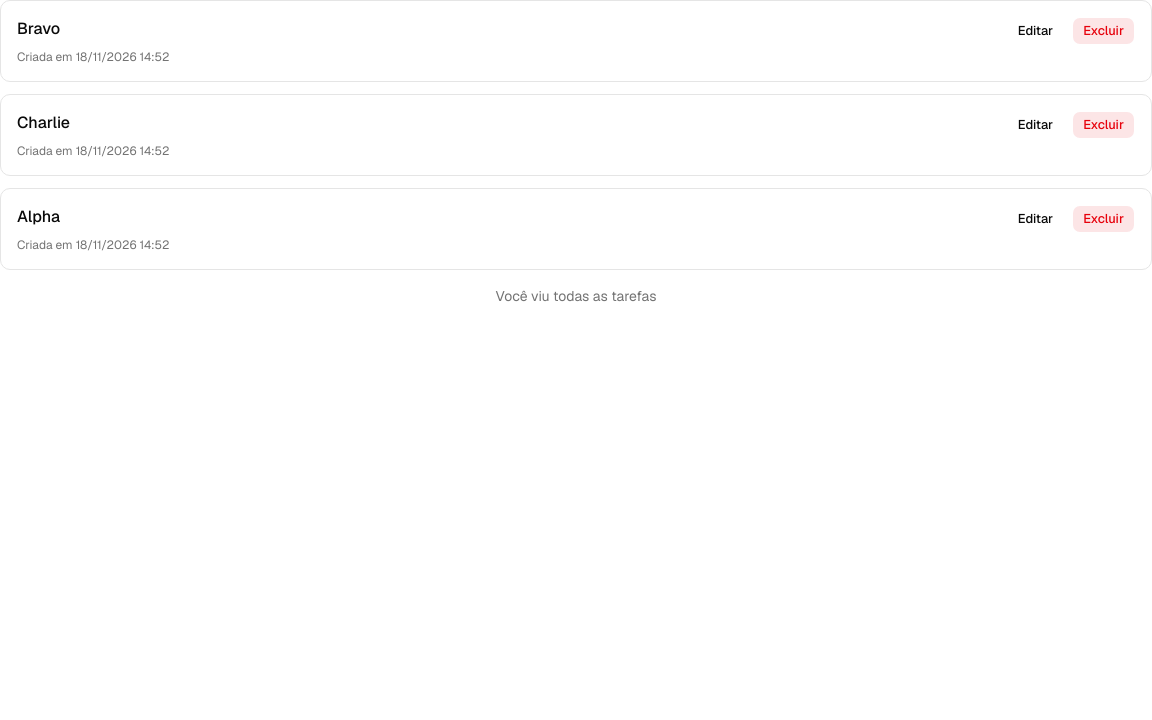
Test: memoização do TarefaItem (contagem de renders) › D: marcar um item como excluindo re-renderiza SÓ ele
Click the button with aria-label "Excluir Charlie".
click(1104, 125)  # box [1072,111,1135,139]
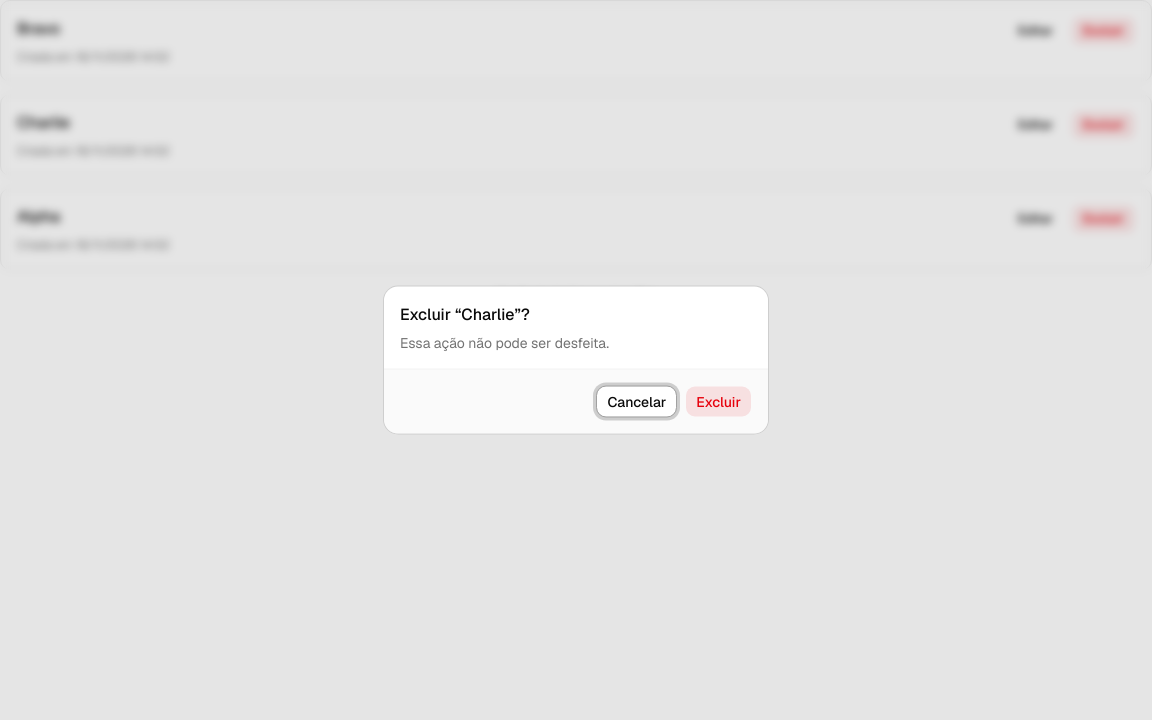
Click the button "Excluir".
click(719, 402)  # box [685,386,752,418]
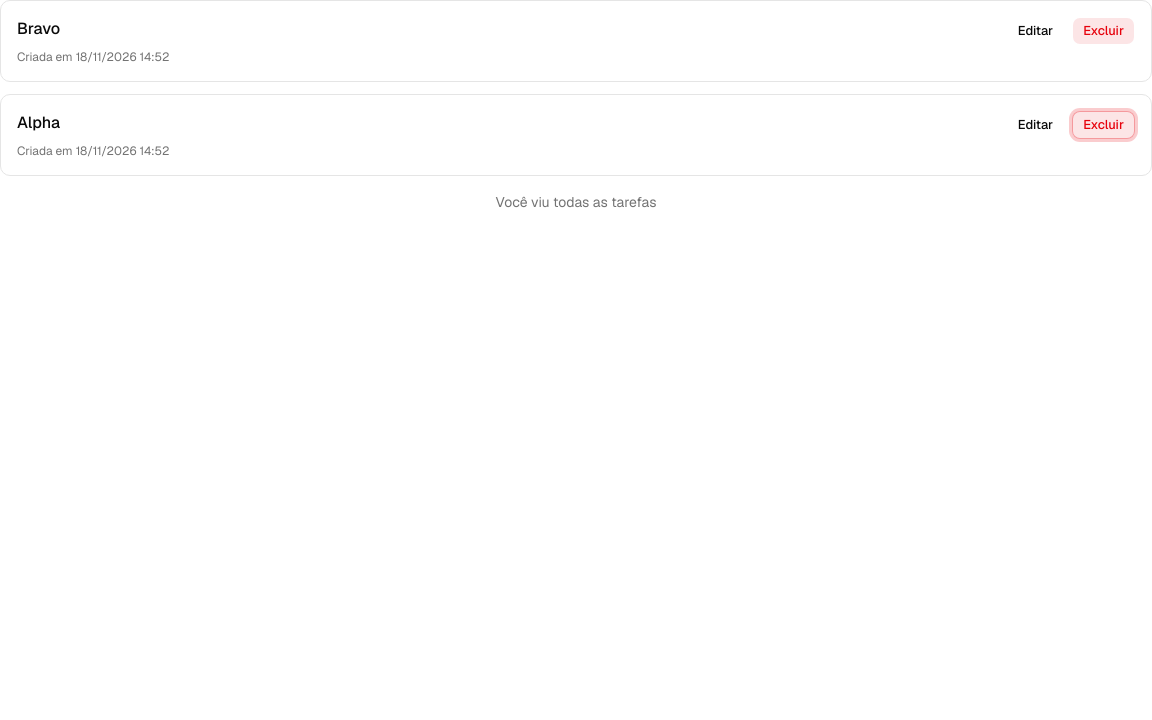
Result: the heading "Charlie" is gone
